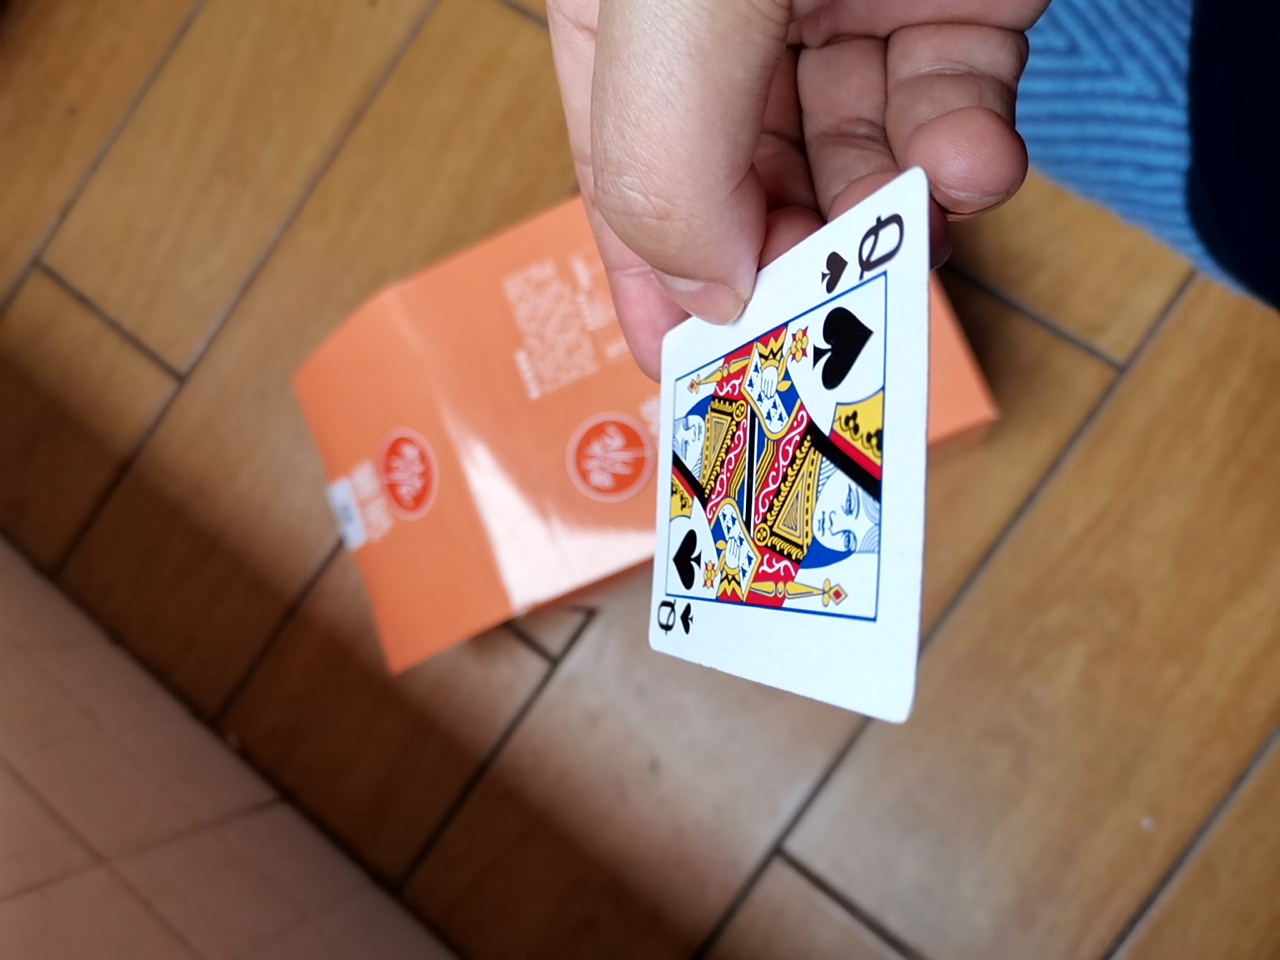ht q: (534, 165, 938, 724)
